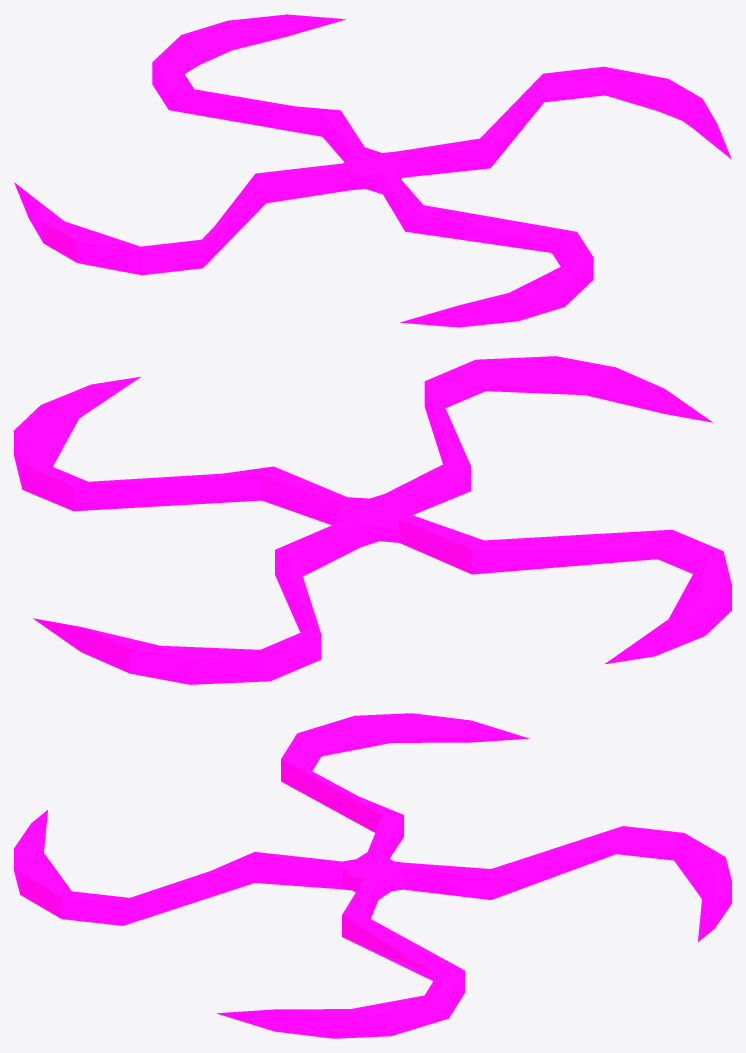
Rendered from 4Scythe.glb.
3 views of the same model, one above another, from view 1: azimuth 30°, elevation 25°; view 2: azimuth 150°, elevation 25°; view 3: azimuth 270°, elevation 25° (orthographic). The views are drawn at different scales.
Visible parts, largest first — view 1: Cube; view 2: Cube; view 3: Cube.
Part boxes in pixels (box(x1,y1,x2,y2)): Cube: box(14, 14, 731, 327); Cube: box(14, 356, 731, 684); Cube: box(14, 713, 731, 1038).
Size of the model in its own units: 6.07 by 0.207 by 6.07.
